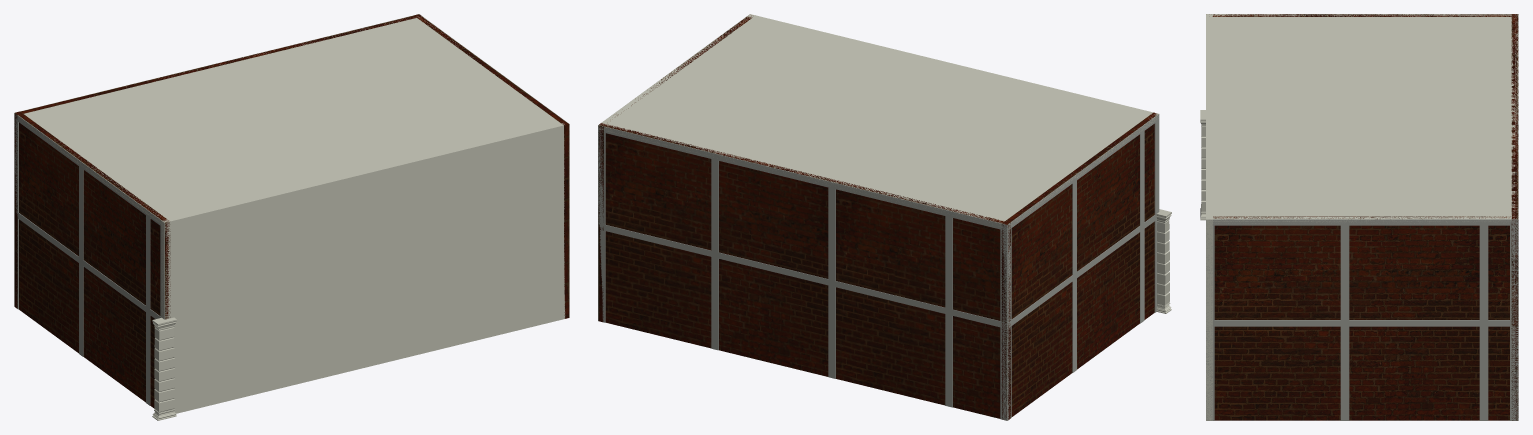
The model's file is building.glb.
The picture shows the model from 3 angles, left to right: view 1: azimuth 30°, elevation 25°; view 2: azimuth 150°, elevation 25°; view 3: azimuth 270°, elevation 25°; orthographic projection. The views are drawn at different scales.
Parts seen in each view (by area): view 1: house:0/edge0/z0/house:0/edge0/z0/wall_0_0, roof/house:0/roof_slab#0001, house:0/edge3/z0/house:0/edge3/z0/wall_0_0, house:0/edge2/z0/house:0/edge2/z0/wall_0_0, house:0/edge1/z0/house:0/edge1/z0/wall_0_0, vertical_member/republicano_rusticated/member_shaft#0001, house:0/edge3/z0/house:0/edge3/z0/beam_1_0, house:0/edge3/z0/house:0/edge3/z0/beam_0_0; view 2: house:0/edge2/z0/house:0/edge2/z0/wall_0_0, roof/house:0/roof_slab#0001, house:0/edge3/z0/house:0/edge3/z0/wall_0_0, house:0/edge2/z0/house:0/edge2/z0/beam_1_0, house:0/edge2/z0/house:0/edge2/z0/beam_0_0, house:0/edge0/z0/house:0/edge0/z0/wall_0_0, house:0/edge1/z0/house:0/edge1/z0/wall_0_0, house:0/edge3/z0/house:0/edge3/z0/beam_1_0, vertical_member/republicano_rusticated/member_shaft#0001, house:0/edge3/z0/house:0/edge3/z0/beam_0_0, house:0/edge2/z0/house:0/edge2/z0/column_2_0, house:0/edge2/z0/house:0/edge2/z0/column_2_1 (+8 smaller); view 3: roof/house:0/roof_slab#0001, house:0/edge1/z0/house:0/edge1/z0/wall_0_0, house:0/edge0/z0/house:0/edge0/z0/wall_0_0, house:0/edge2/z0/house:0/edge2/z0/wall_0_0, house:0/edge1/z0/house:0/edge1/z0/beam_1_0, house:0/edge1/z0/house:0/edge1/z0/beam_0_0, house:0/edge1/z0/house:0/edge1/z0/column_2_0, house:0/edge1/z0/house:0/edge1/z0/column_3_0, house:0/edge1/z0/house:0/edge1/z0/column_2_1, house:0/edge1/z0/house:0/edge1/z0/column_3_1, house:0/edge3/z0/house:0/edge3/z0/wall_0_0, house:0/edge1/z0/house:0/edge1/z0/column_1_0 (+3 smaller).
Boxes of the visible parts, x1=… form: house:0/edge0/z0/house:0/edge0/z0/wall_0_0: x1=161, y1=123, x2=569, y2=413; roof/house:0/roof_slab#0001: x1=18, y1=16, x2=563, y2=226; house:0/edge3/z0/house:0/edge3/z0/wall_0_0: x1=15, y1=111, x2=170, y2=408; house:0/edge2/z0/house:0/edge2/z0/wall_0_0: x1=14, y1=14, x2=421, y2=308; house:0/edge1/z0/house:0/edge1/z0/wall_0_0: x1=414, y1=14, x2=569, y2=318; vertical_member/republicano_rusticated/member_shaft#0001: x1=154, y1=327, x2=174, y2=412; house:0/edge3/z0/house:0/edge3/z0/beam_1_0: x1=15, y1=114, x2=164, y2=228; house:0/edge3/z0/house:0/edge3/z0/beam_0_0: x1=16, y1=211, x2=161, y2=318; house:0/edge2/z0/house:0/edge2/z0/wall_0_0: x1=599, y1=123, x2=1010, y2=419; roof/house:0/roof_slab#0001: x1=598, y1=16, x2=1158, y2=227; house:0/edge3/z0/house:0/edge3/z0/wall_0_0: x1=1001, y1=112, x2=1157, y2=419; house:0/edge2/z0/house:0/edge2/z0/beam_1_0: x1=598, y1=125, x2=1007, y2=231; house:0/edge2/z0/house:0/edge2/z0/beam_0_0: x1=598, y1=223, x2=1007, y2=328; house:0/edge0/z0/house:0/edge0/z0/wall_0_0: x1=747, y1=14, x2=1158, y2=115; house:0/edge1/z0/house:0/edge1/z0/wall_0_0: x1=598, y1=15, x2=752, y2=322; house:0/edge3/z0/house:0/edge3/z0/beam_1_0: x1=1007, y1=114, x2=1159, y2=230; vertical_member/republicano_rusticated/member_shaft#0001: x1=1157, y1=220, x2=1169, y2=305; house:0/edge3/z0/house:0/edge3/z0/beam_0_0: x1=1007, y1=214, x2=1156, y2=328; house:0/edge2/z0/house:0/edge2/z0/column_2_0: x1=711, y1=159, x2=718, y2=252; house:0/edge2/z0/house:0/edge2/z0/column_2_1: x1=711, y1=257, x2=718, y2=350; roof/house:0/roof_slab#0001: x1=1206, y1=14, x2=1518, y2=223; house:0/edge1/z0/house:0/edge1/z0/wall_0_0: x1=1213, y1=216, x2=1514, y2=420; house:0/edge0/z0/house:0/edge0/z0/wall_0_0: x1=1206, y1=14, x2=1212, y2=420; house:0/edge2/z0/house:0/edge2/z0/wall_0_0: x1=1511, y1=14, x2=1518, y2=420; house:0/edge1/z0/house:0/edge1/z0/beam_1_0: x1=1209, y1=219, x2=1518, y2=225; house:0/edge1/z0/house:0/edge1/z0/beam_0_0: x1=1206, y1=320, x2=1518, y2=326; house:0/edge1/z0/house:0/edge1/z0/column_2_0: x1=1340, y1=225, x2=1349, y2=320; house:0/edge1/z0/house:0/edge1/z0/column_3_0: x1=1479, y1=225, x2=1488, y2=320; house:0/edge1/z0/house:0/edge1/z0/column_2_1: x1=1340, y1=326, x2=1349, y2=420; house:0/edge1/z0/house:0/edge1/z0/column_3_1: x1=1479, y1=326, x2=1488, y2=420; house:0/edge3/z0/house:0/edge3/z0/wall_0_0: x1=1212, y1=14, x2=1517, y2=16; house:0/edge1/z0/house:0/edge1/z0/column_1_0: x1=1510, y1=326, x2=1518, y2=420.
Size of the model in its own units: 14.33 by 6.4 by 9.17.
Materials: 3 (1 with a texture image).
